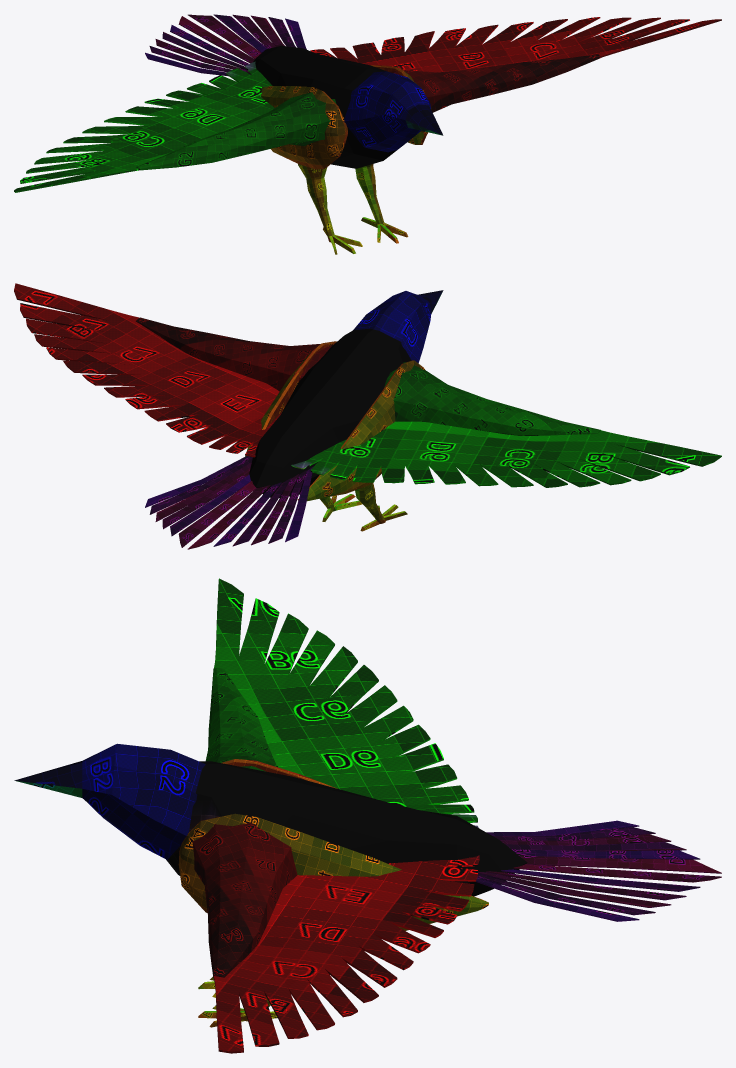
File: bird.glb
3 views of the same model, one above another, from view 1: azimuth 30°, elevation 25°; view 2: azimuth 150°, elevation 25°; view 3: azimuth 270°, elevation 25° (orthographic). The views are drawn at different scales.
Visible parts, largest first — view 1: 1_BIRD_REAL; view 2: 1_BIRD_REAL; view 3: 1_BIRD_REAL.
Boxes of the visible parts, box(x1,y1,x2,y2) form: 1_BIRD_REAL: box(14, 14, 721, 254); 1_BIRD_REAL: box(14, 283, 721, 549); 1_BIRD_REAL: box(14, 578, 721, 1053).
Bounding box in the file's own units: 11.86 × 3.04 × 7.52.
Materials: 1 (1 with a texture image).
